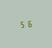five: (19, 20, 25, 28)
six: (26, 19, 32, 27)
